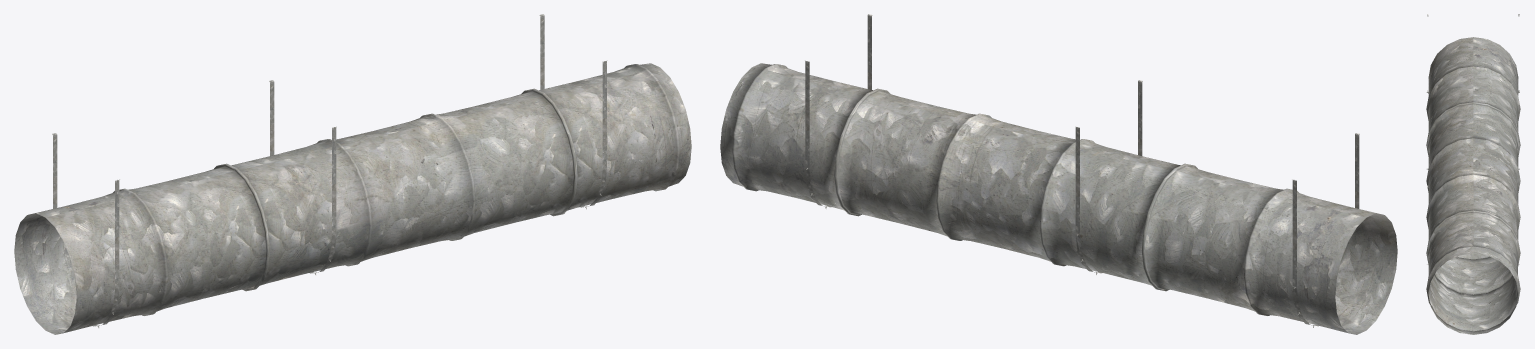
Rendered from SM_vent_01.fbx.
3 views of the same model, side by side, from view 1: azimuth 30°, elevation 25°; view 2: azimuth 150°, elevation 25°; view 3: azimuth 270°, elevation 25° (orthographic). The views are drawn at different scales.
Parts seen in each view (by area): view 1: SM_vent_01; view 2: SM_vent_01; view 3: SM_vent_01.
Boxes of the visible parts, x1,y1,x2,y2 form: SM_vent_01: (14, 14, 691, 334); SM_vent_01: (720, 14, 1397, 334); SM_vent_01: (1426, 14, 1520, 334).
Size of the model in its own units: 600 by 110 by 155.
1 material, 1 textured.
